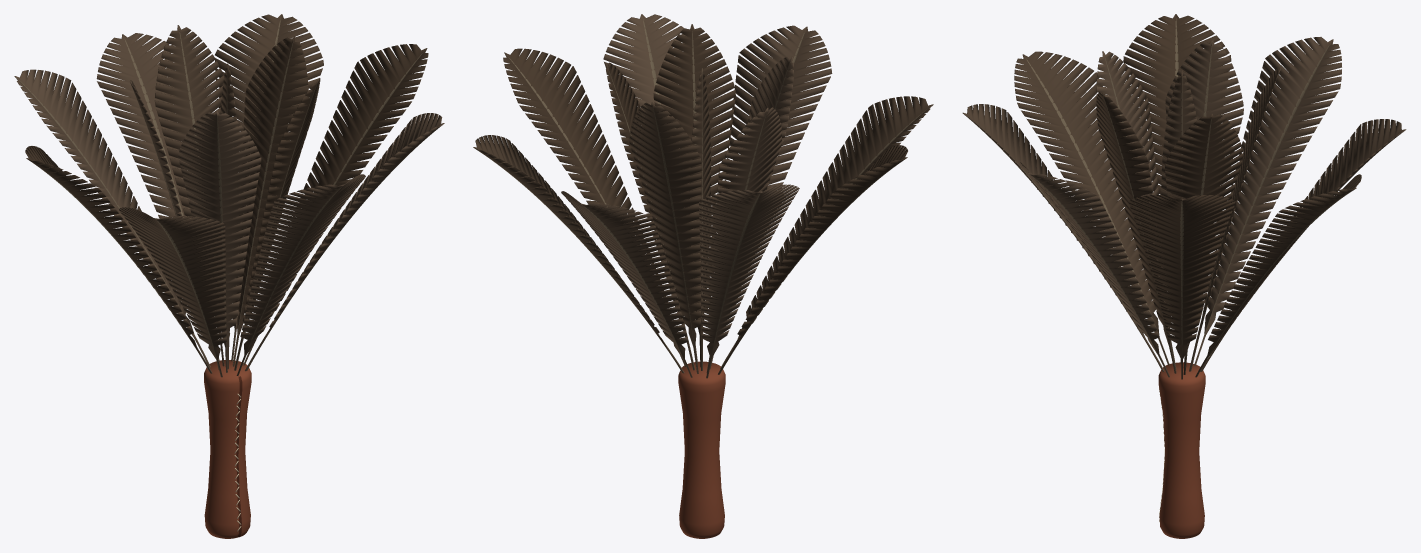
3 renders of one model, left to right at view 1: azimuth 30°, elevation 25°; view 2: azimuth 150°, elevation 25°; view 3: azimuth 270°, elevation 25°, orthographic.
Parts seen in each view (by area): view 1: Feather_11_closed_vane_and_quill, Feather_00_closed_vane_and_quill, Feather_05_closed_vane_and_quill, Feather_02_closed_vane_and_quill, Feather_08_closed_vane_and_quill, Feather_06_closed_vane_and_quill, Leather handle complete capped ends, Feather_03_closed_vane_and_quill, Feather_09_closed_vane_and_quill, Feather_01_closed_vane_and_quill, Feather_04_closed_vane_and_quill, Feather_07_closed_vane_and_quill (+3 smaller); view 2: Feather_09_closed_vane_and_quill, Feather_00_closed_vane_and_quill, Feather_03_closed_vane_and_quill, Feather_06_closed_vane_and_quill, Leather handle complete capped ends, Feather_12_closed_vane_and_quill, Feather_02_closed_vane_and_quill, Feather_05_closed_vane_and_quill, Feather_07_closed_vane_and_quill, Feather_10_closed_vane_and_quill, Feather_01_closed_vane_and_quill, Feather_04_closed_vane_and_quill (+3 smaller); view 3: Feather_03_closed_vane_and_quill, Feather_05_closed_vane_and_quill, Feather_00_closed_vane_and_quill, Leather handle complete capped ends, Feather_04_closed_vane_and_quill, Feather_08_closed_vane_and_quill, Feather_07_closed_vane_and_quill, Feather_01_closed_vane_and_quill, Feather_12_closed_vane_and_quill, Feather_10_closed_vane_and_quill, Feather_11_closed_vane_and_quill, Feather_06_closed_vane_and_quill (+3 smaller).
Part boxes in pixels (x1,y1,x2,y2): Feather_11_closed_vane_and_quill: [178, 111, 261, 372]; Feather_00_closed_vane_and_quill: [243, 44, 428, 365]; Feather_05_closed_vane_and_quill: [119, 207, 226, 377]; Feather_02_closed_vane_and_quill: [96, 33, 219, 361]; Feather_08_closed_vane_and_quill: [232, 36, 308, 366]; Feather_06_closed_vane_and_quill: [236, 174, 365, 375]; Leather handle complete capped ends: [204, 360, 251, 538]; Feather_03_closed_vane_and_quill: [14, 69, 210, 367]; Feather_09_closed_vane_and_quill: [154, 25, 224, 366]; Feather_01_closed_vane_and_quill: [215, 14, 323, 361]; Feather_04_closed_vane_and_quill: [25, 146, 212, 373]; Feather_07_closed_vane_and_quill: [245, 113, 444, 371]; Feather_09_closed_vane_and_quill: [629, 102, 701, 373]; Feather_00_closed_vane_and_quill: [503, 48, 686, 366]; Feather_03_closed_vane_and_quill: [699, 184, 799, 378]; Feather_06_closed_vane_and_quill: [711, 25, 832, 363]; Leather handle complete capped ends: [678, 361, 725, 538]; Feather_12_closed_vane_and_quill: [653, 24, 735, 367]; Feather_02_closed_vane_and_quill: [561, 191, 692, 377]; Feather_05_closed_vane_and_quill: [720, 96, 933, 368]; Feather_07_closed_vane_and_quill: [603, 14, 704, 363]; Feather_10_closed_vane_and_quill: [706, 107, 781, 372]; Feather_01_closed_vane_and_quill: [473, 135, 684, 373]; Feather_04_closed_vane_and_quill: [718, 145, 907, 374]; Feather_03_closed_vane_and_quill: [1194, 37, 1341, 366]; Feather_05_closed_vane_and_quill: [1014, 51, 1169, 365]; Feather_00_closed_vane_and_quill: [1128, 195, 1235, 379]; Leather handle complete capped ends: [1158, 362, 1205, 538]; Feather_04_closed_vane_and_quill: [1123, 14, 1231, 363]; Feather_08_closed_vane_and_quill: [1164, 113, 1243, 374]; Feather_07_closed_vane_and_quill: [1020, 162, 1169, 377]; Feather_01_closed_vane_and_quill: [1195, 174, 1361, 377]; Feather_12_closed_vane_and_quill: [1096, 91, 1176, 373]; Feather_10_closed_vane_and_quill: [1165, 39, 1243, 367]; Feather_11_closed_vane_and_quill: [1096, 51, 1176, 369]; Feather_06_closed_vane_and_quill: [962, 104, 1164, 371].
Size of the model in its own units: 0.3328 by 0.3711 by 0.3211.
